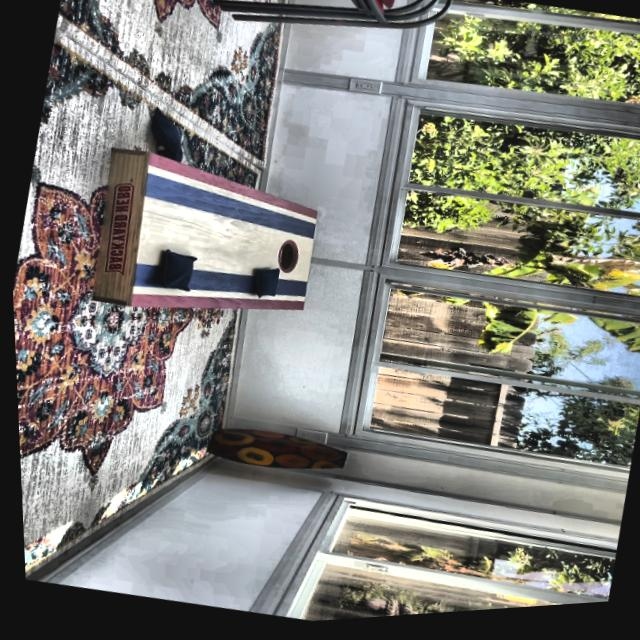blue-bean-bag: (145, 107, 187, 159), (153, 248, 198, 296), (246, 266, 280, 304), (155, 141, 185, 165)
board: (129, 167, 323, 329)
hole: (272, 240, 299, 278)
